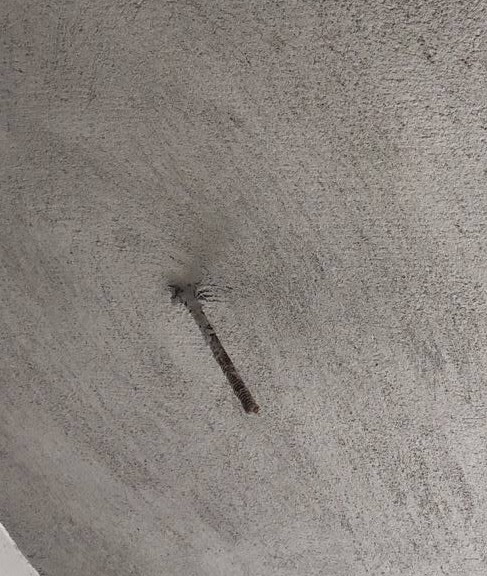Exposed reinforcement: (178, 289, 260, 414)
